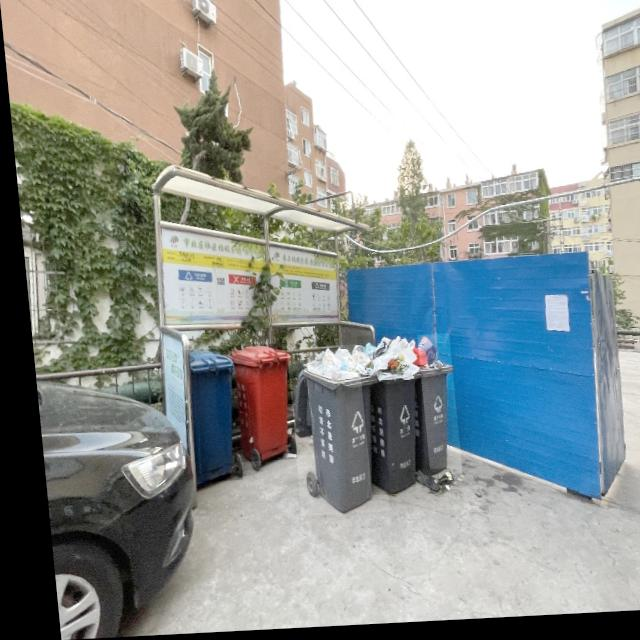garbage: (405, 473, 443, 501)
garbage_bin: (219, 346, 288, 464), (177, 350, 233, 484)
overflow: (278, 347, 379, 519), (350, 337, 422, 499), (395, 338, 453, 480)
